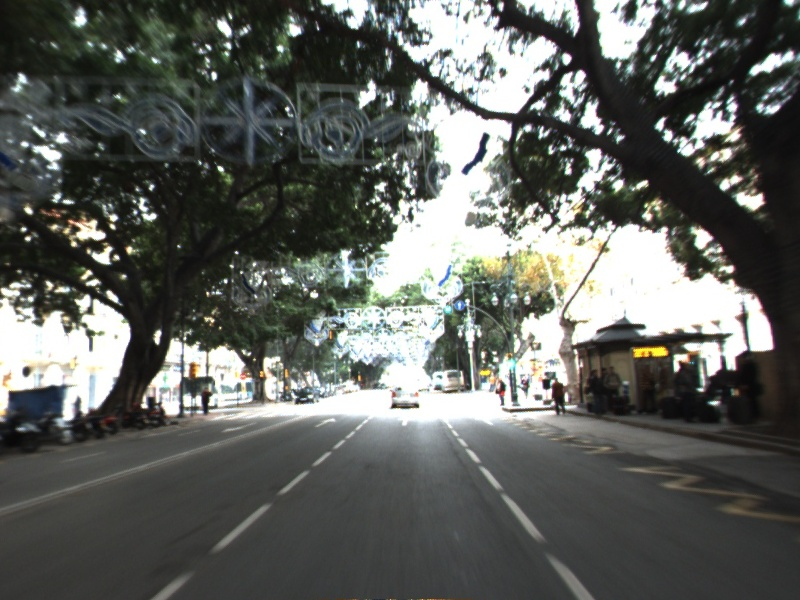STRAIGHT: (312, 415, 338, 430)
